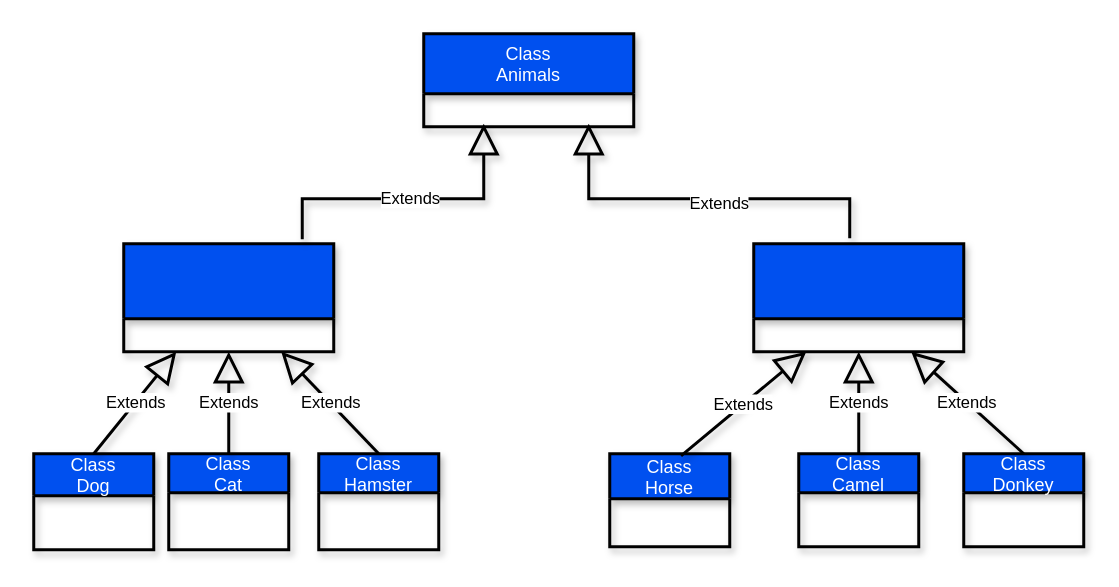
The diagram is 1119 pixels wide and 587 high, and some of its shapes have lost their labels. The shapes that lost their labels are listed below. From the top down, each one's centre as x and y in pixels, then its label:
At (x=230, y=299): "Class homeAnimals".
At (x=860, y=299): "Class packedAnimals".
